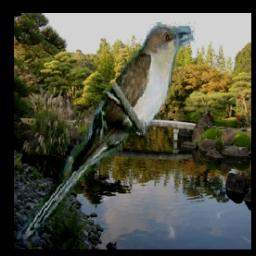Cuckoo: (18, 23, 197, 250)
